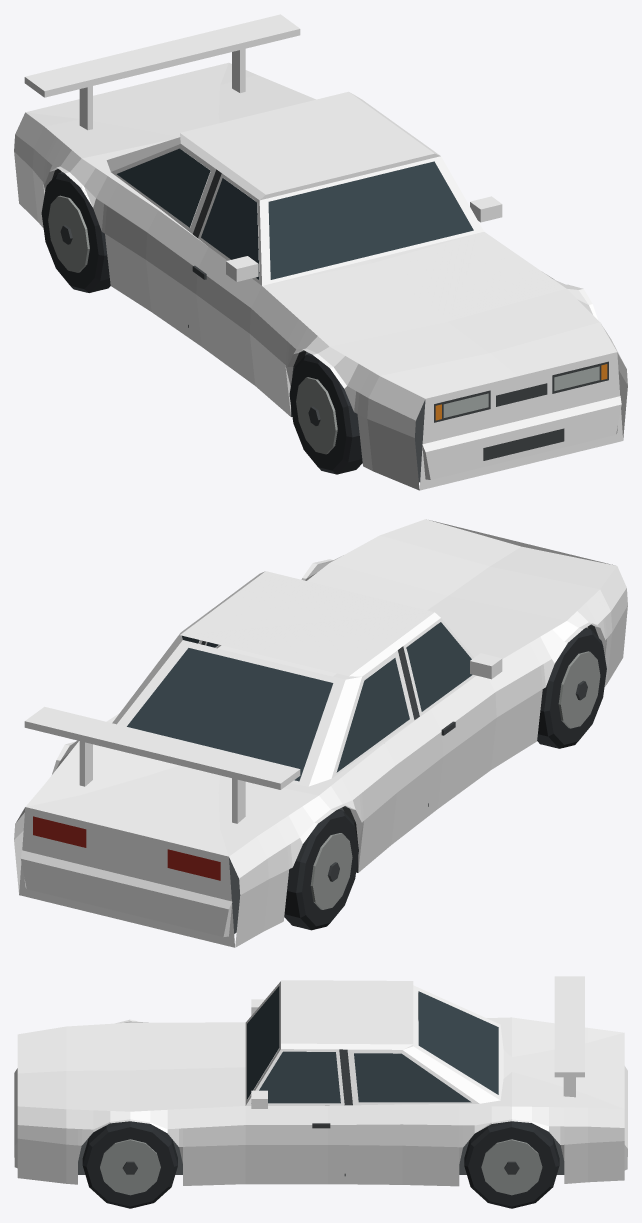
Rendered from garrison_bison_corrida.glb.
3 views of the same model, one above another, from view 1: azimuth 30°, elevation 25°; view 2: azimuth 150°, elevation 25°; view 3: azimuth 270°, elevation 25° (orthographic). The views are drawn at different scales.
Visible parts, largest first — view 1: garrison_bison_corrida; view 2: garrison_bison_corrida; view 3: garrison_bison_corrida.
Boxes of the visible parts, left/top/right/bottom form: garrison_bison_corrida: left=14, top=14, right=627, bottom=490; garrison_bison_corrida: left=14, top=519, right=627, bottom=947; garrison_bison_corrida: left=14, top=976, right=627, bottom=1208.
Bounding box in the file's own units: 1.74 × 1.19 × 4.44.
8 materials, 1 textured.
